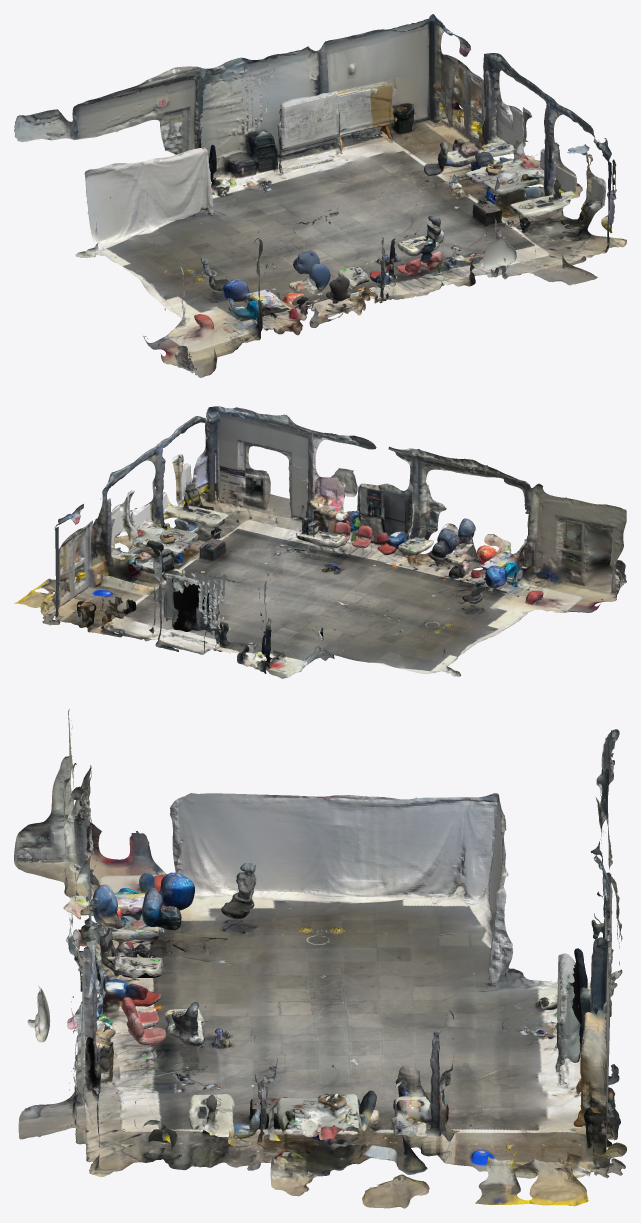
3 views of the same model, one above another, from view 1: azimuth 30°, elevation 25°; view 2: azimuth 150°, elevation 25°; view 3: azimuth 270°, elevation 25° (orthographic). The views are drawn at different scales.
Bounding box in the file's own units: 15.87 × 3.67 × 11.51.
Materials: 3 (3 with a texture image).
